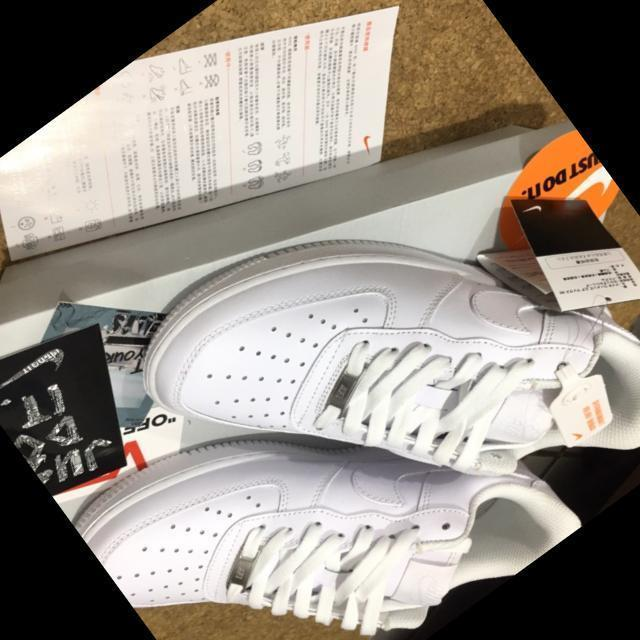nike original air force: (91, 89, 640, 640), (66, 268, 587, 640)
